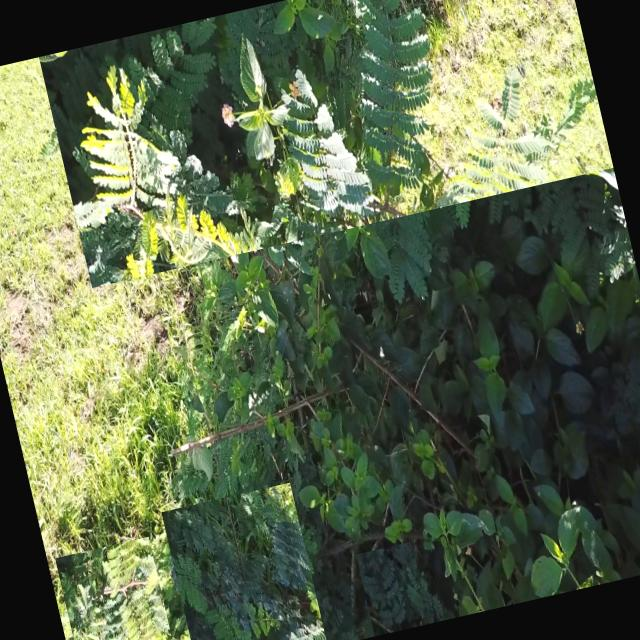Mysore-Thorn-Weed: (38, 0, 613, 287), (161, 482, 327, 640), (54, 536, 179, 640), (356, 542, 429, 636)
